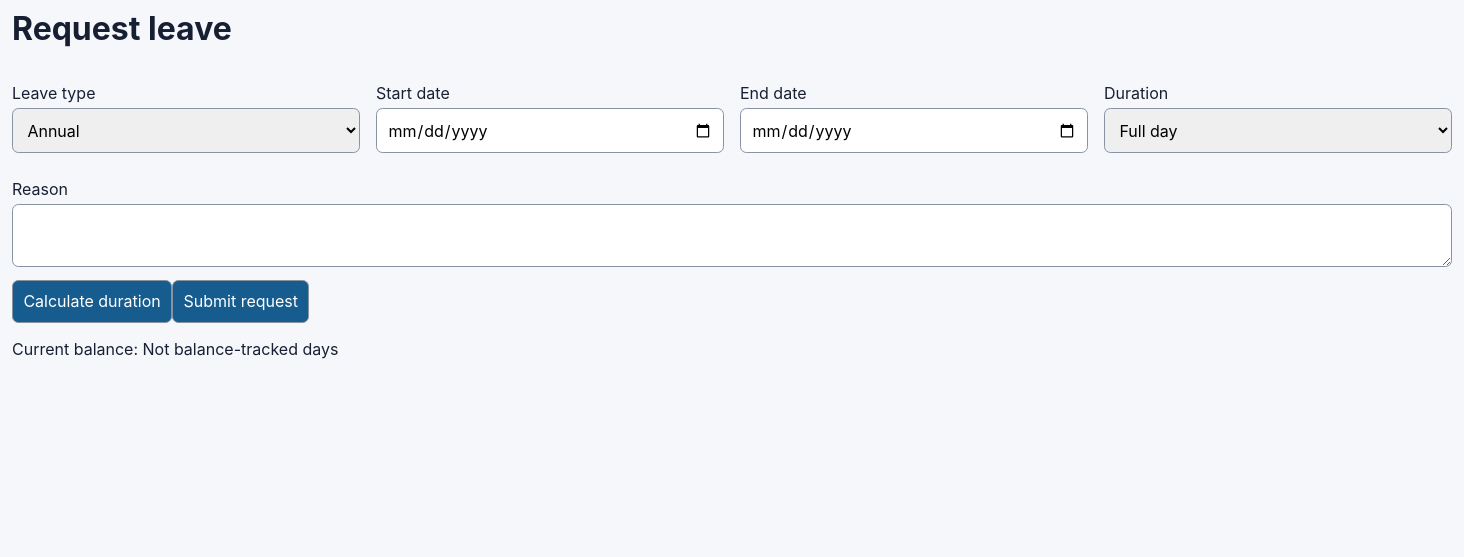
Scenario: prevents duplicate submission while the first request is in flight
The width and height of the screenshot is (1464, 557).
Type "2026-09-01" into the date field labelled "Start date" at (550, 131), box [376, 108, 724, 153]
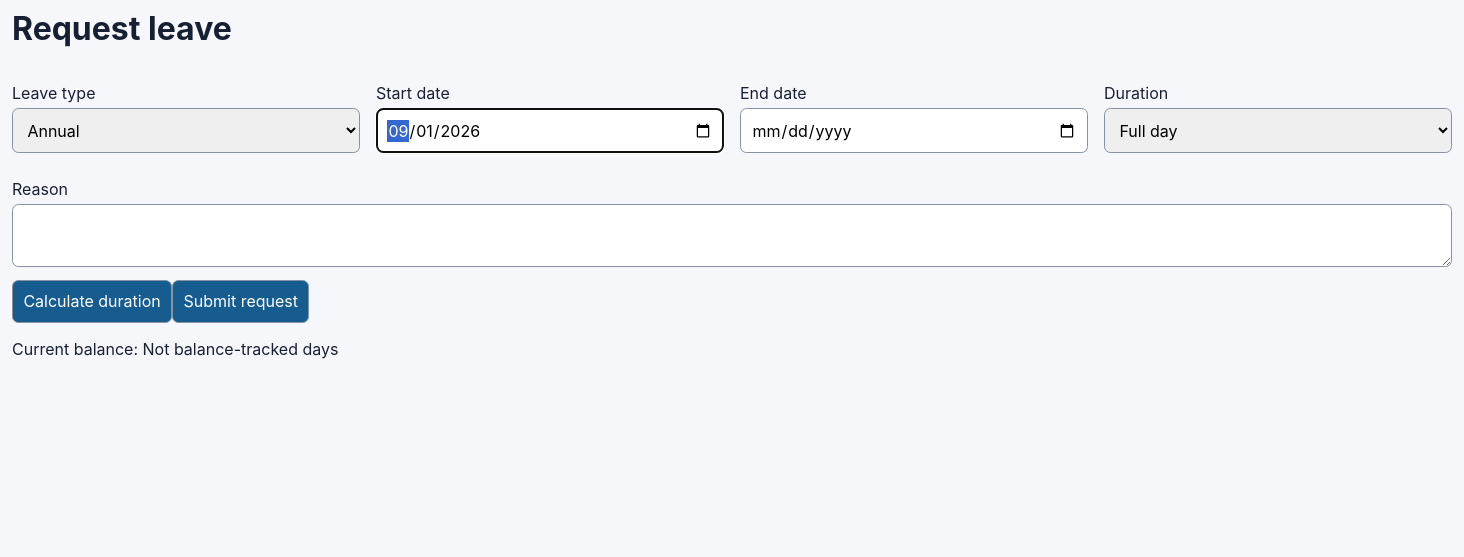
Type "2026-09-01" into the date field labelled "End date" at (914, 131), box [740, 108, 1088, 153]
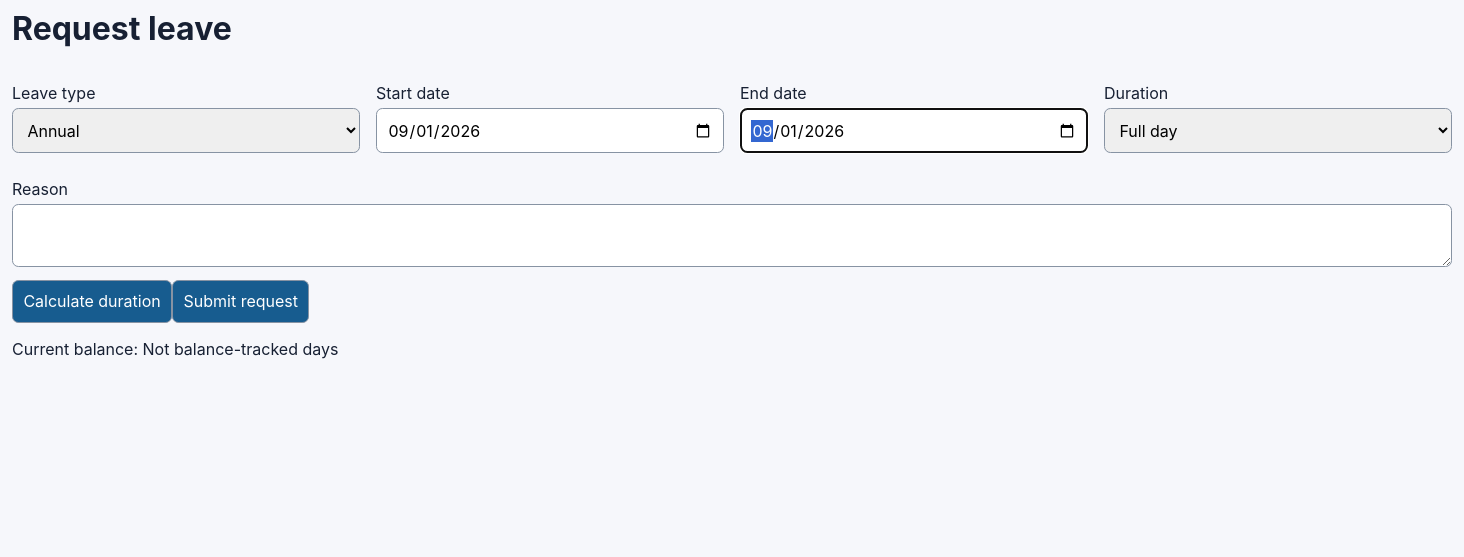
Type "Rest" into the text box labelled "Reason" at (732, 236), box [12, 204, 1452, 267]
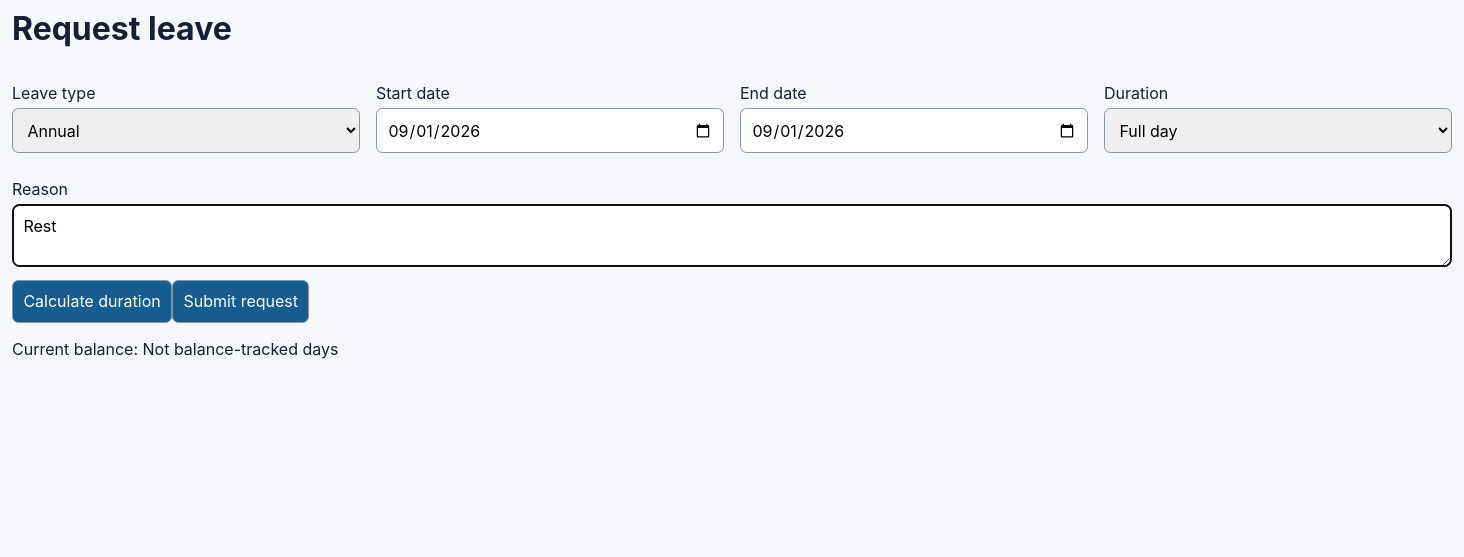
Click the button "Calculate duration" at (92, 301), box [12, 280, 172, 323]
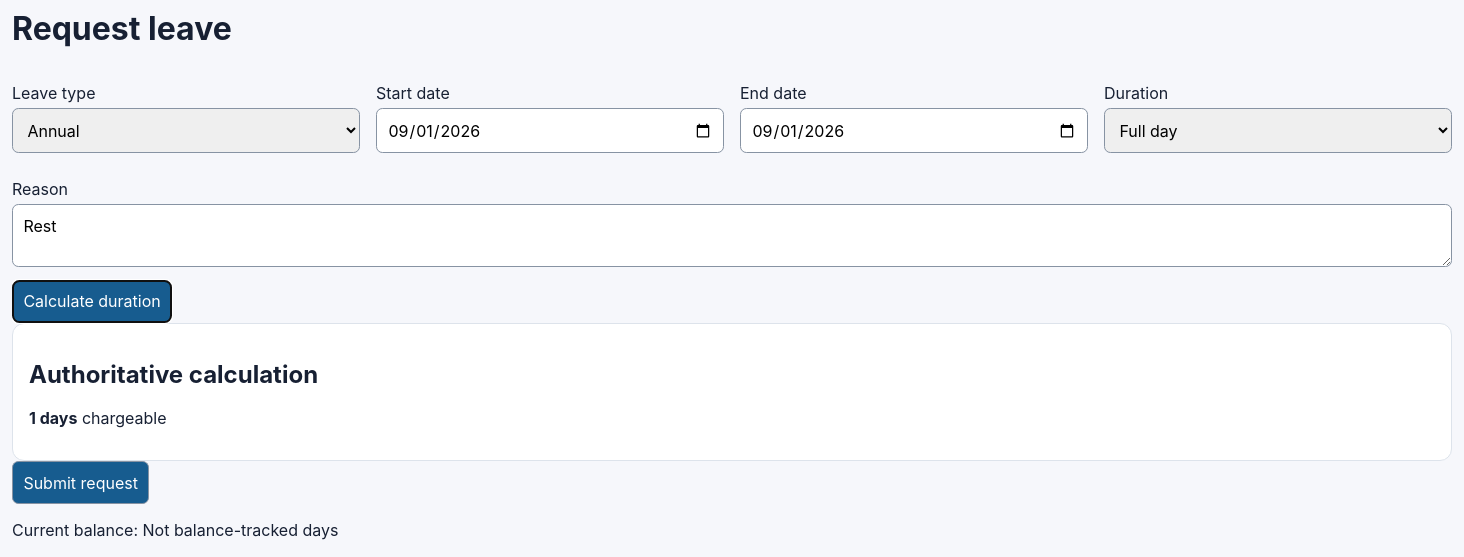
Now the text "1 days" is shown, box [29, 408, 77, 428]
Double-click the button "Submit request" at (81, 483), box [12, 461, 149, 504]
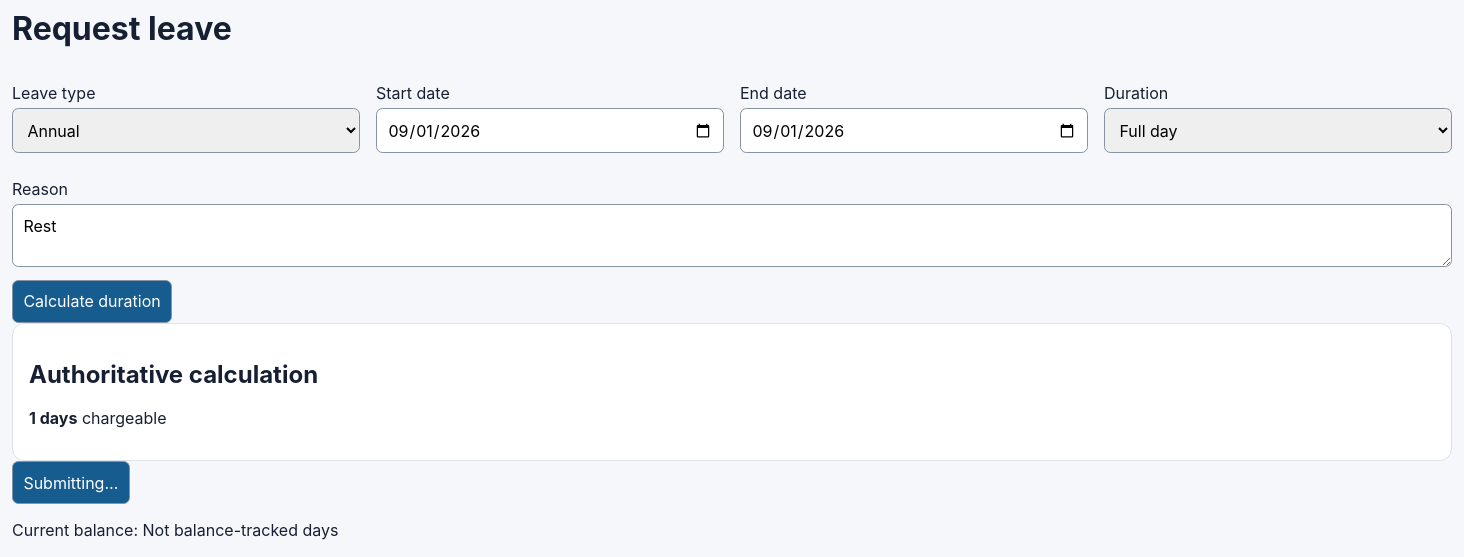
Now the button "Submitting…" is disabled, box [12, 461, 130, 504]
